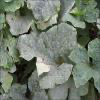Squash Powdery mildew leaf: (13, 22, 79, 90)
